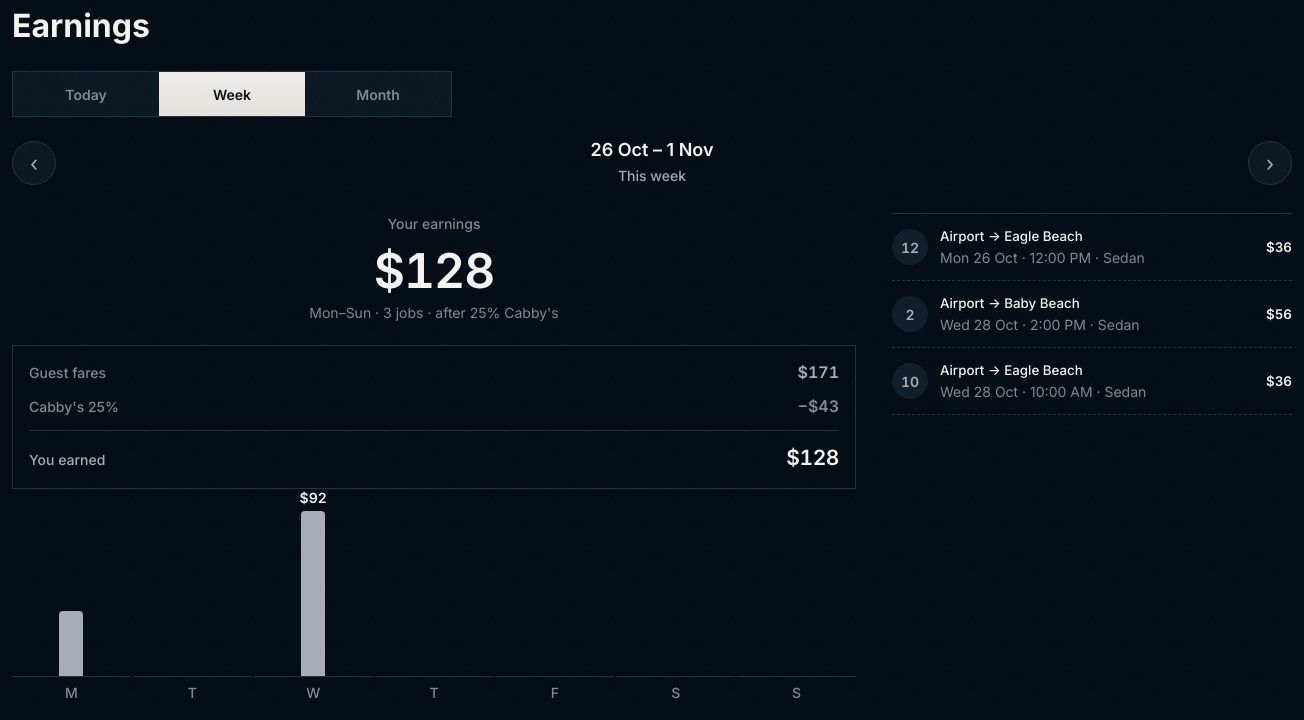
Test: Earnings › narrows to a single day without leaving the screen
This screenshot has width=1304, height=720.
Click the button "Today": (86, 94) [13,72,159,116]
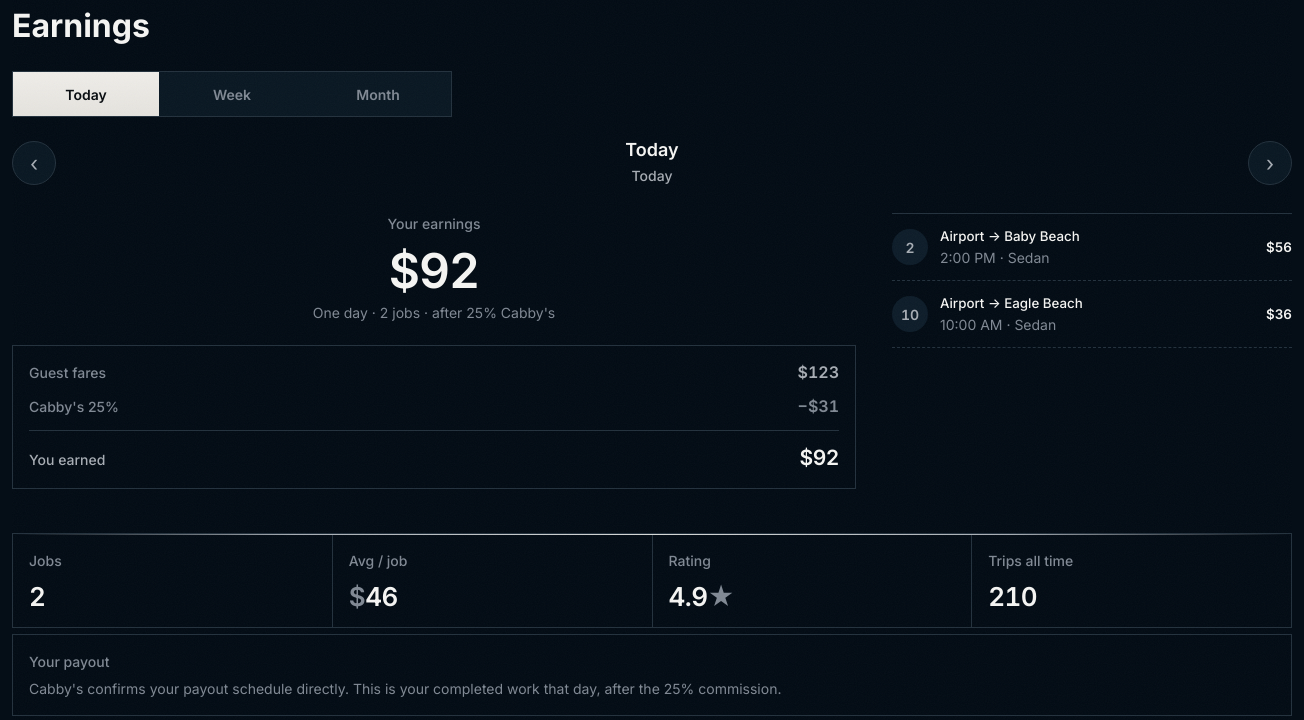
Result: the text "One day · 2 jobs · after 25% Cabby's" is shown at [313,304,555,321]
Result: the element with class "drv-chart" is gone
